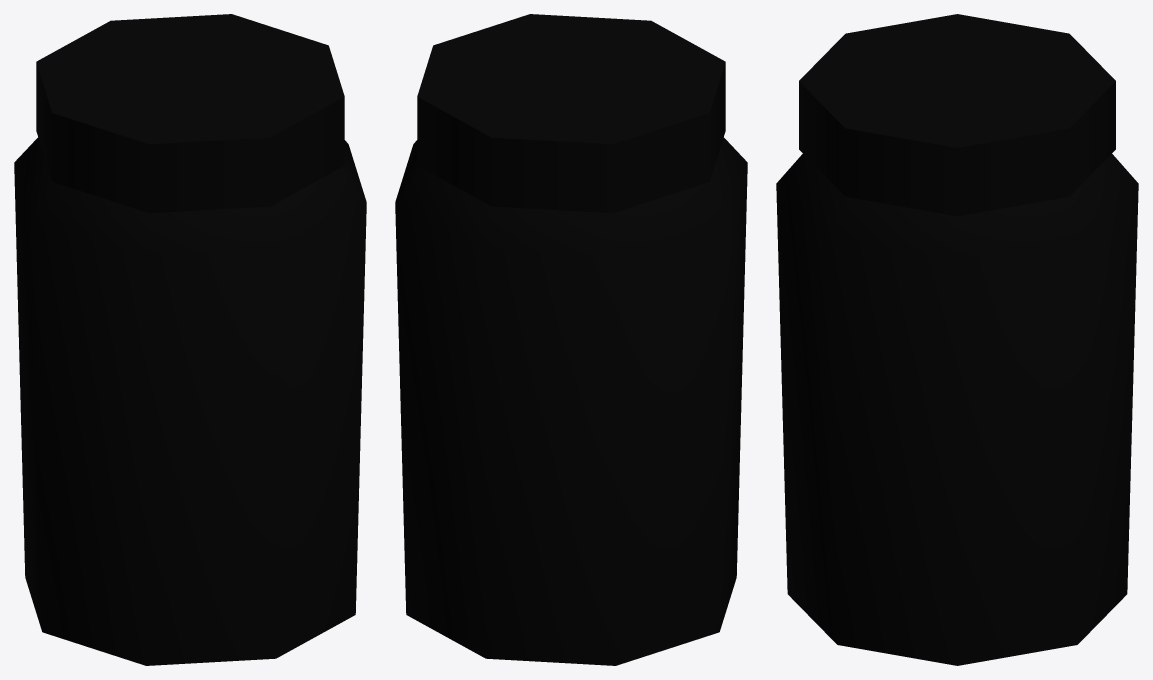
The model's file is SM_jar.fbx.
The picture shows the model from 3 angles, left to right: view 1: azimuth 30°, elevation 25°; view 2: azimuth 150°, elevation 25°; view 3: azimuth 270°, elevation 25°; orthographic projection.
Visible parts, largest first — view 1: jar; view 2: jar; view 3: jar.
Boxes of the visible parts, x1,y1,x2,y2 form: jar: (14,14,366,665); jar: (395,14,747,665); jar: (776,14,1138,665).
Bounding box in the file's own units: 0.096 × 0.15 × 0.096.
